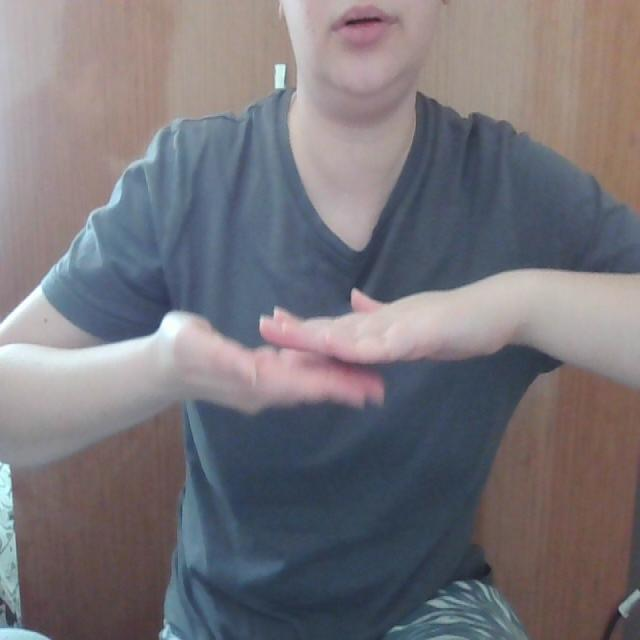Arkadas: (0, 239, 640, 430)
